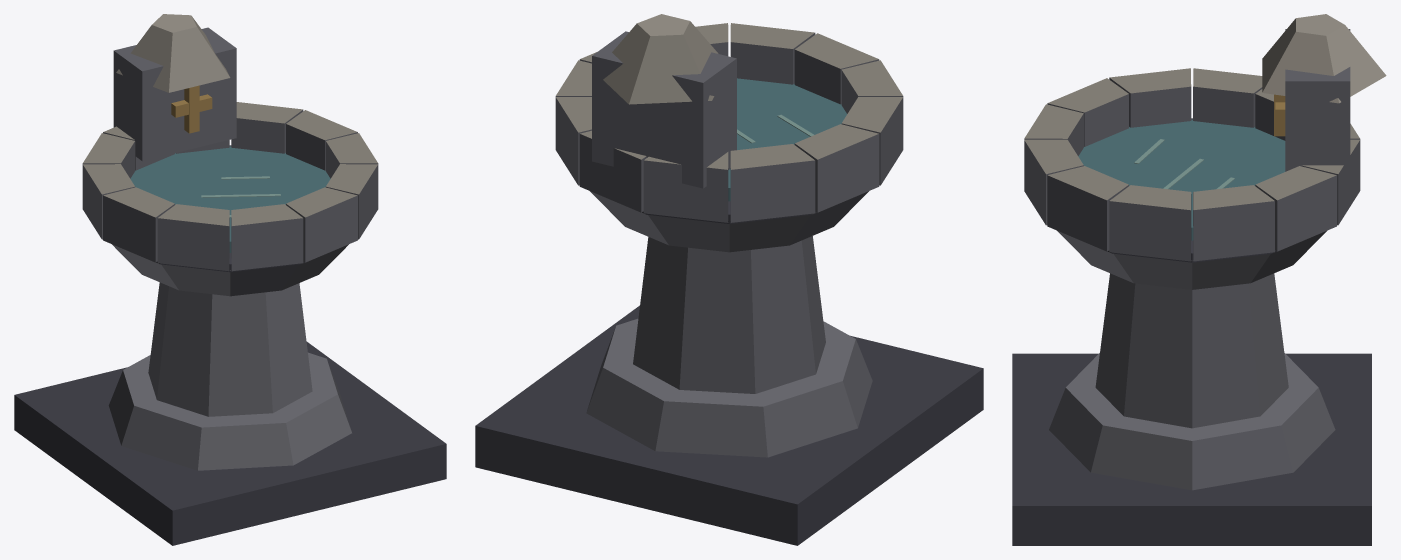
File: font-clear.glb
3 views of the same model, side by side, from view 1: azimuth 30°, elevation 25°; view 2: azimuth 150°, elevation 25°; view 3: azimuth 270°, elevation 25° (orthographic). The views are drawn at different scales.
Parts seen in each view (by area): view 1: Saint Andral’s font · clear; view 2: Saint Andral’s font · clear; view 3: Saint Andral’s font · clear.
Part boxes in pixels (x1,y1,x2,y2): Saint Andral’s font · clear: (14,14,446,545); Saint Andral’s font · clear: (475,14,983,545); Saint Andral’s font · clear: (1012,14,1386,545).
Size of the model in its own units: 0.91 by 1.24 by 0.947.
